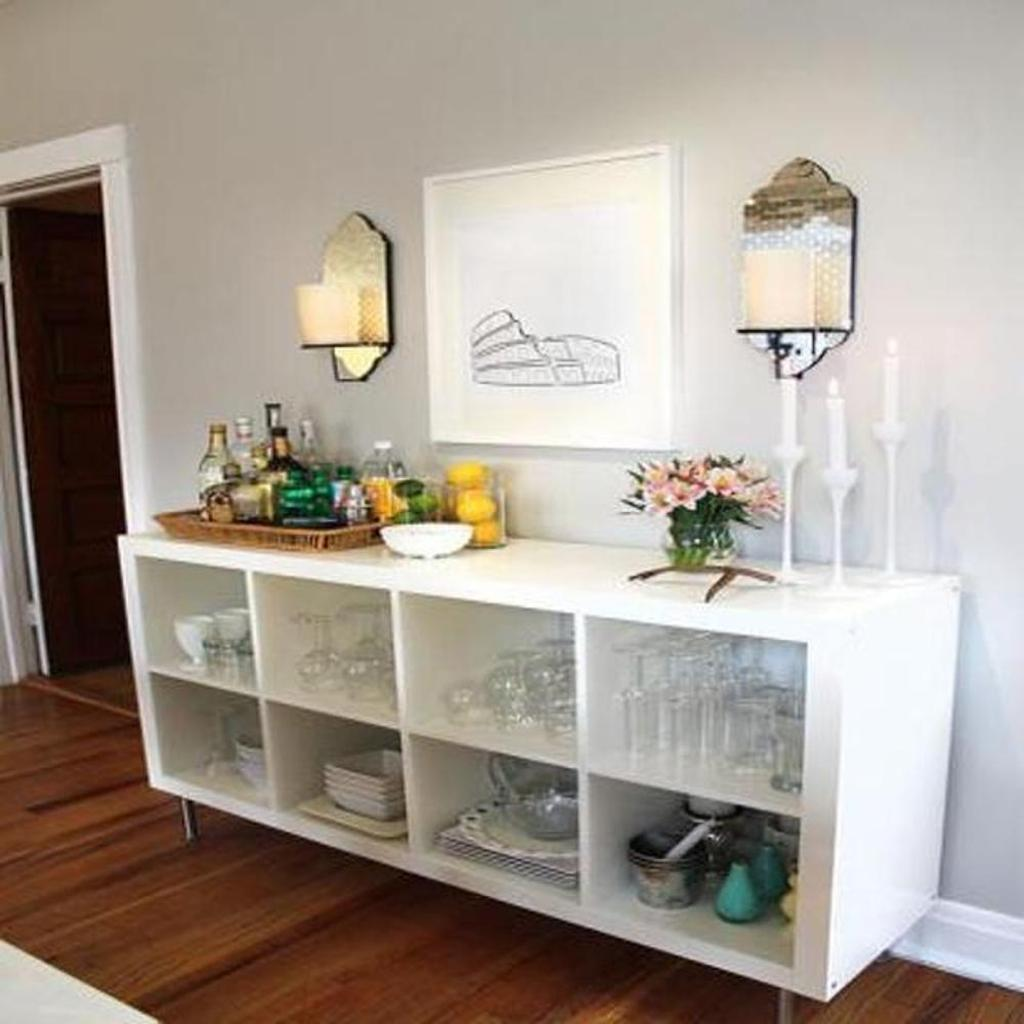lamp: (116, 502, 970, 1022)
